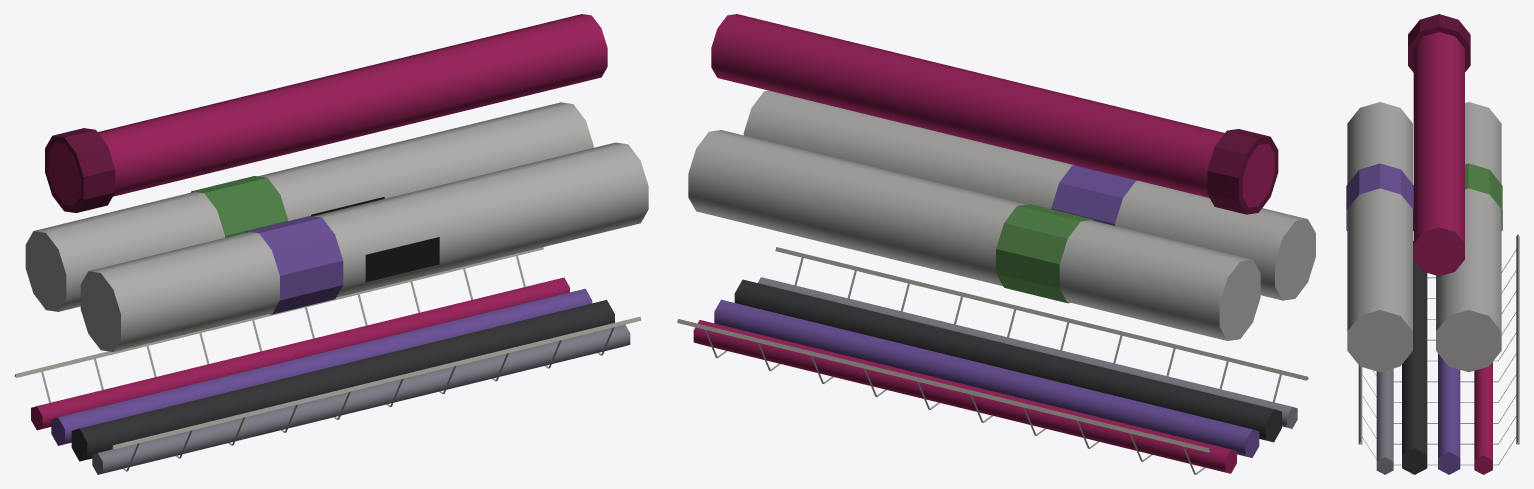
The model's file is pipe_run_1.glb.
3 views of the same model, side by side, from view 1: azimuth 30°, elevation 25°; view 2: azimuth 150°, elevation 25°; view 3: azimuth 270°, elevation 25° (orthographic). The views are drawn at different scales.
Parts seen in each view (by area): view 1: pipe_run_1; view 2: pipe_run_1; view 3: pipe_run_1.
Part boxes in pixels (x1,y1,x2,y2): pipe_run_1: [14, 14, 648, 474]; pipe_run_1: [677, 14, 1315, 474]; pipe_run_1: [1346, 14, 1519, 474].
Bounding box in the file's own units: 1 × 0.568 × 0.3565.
